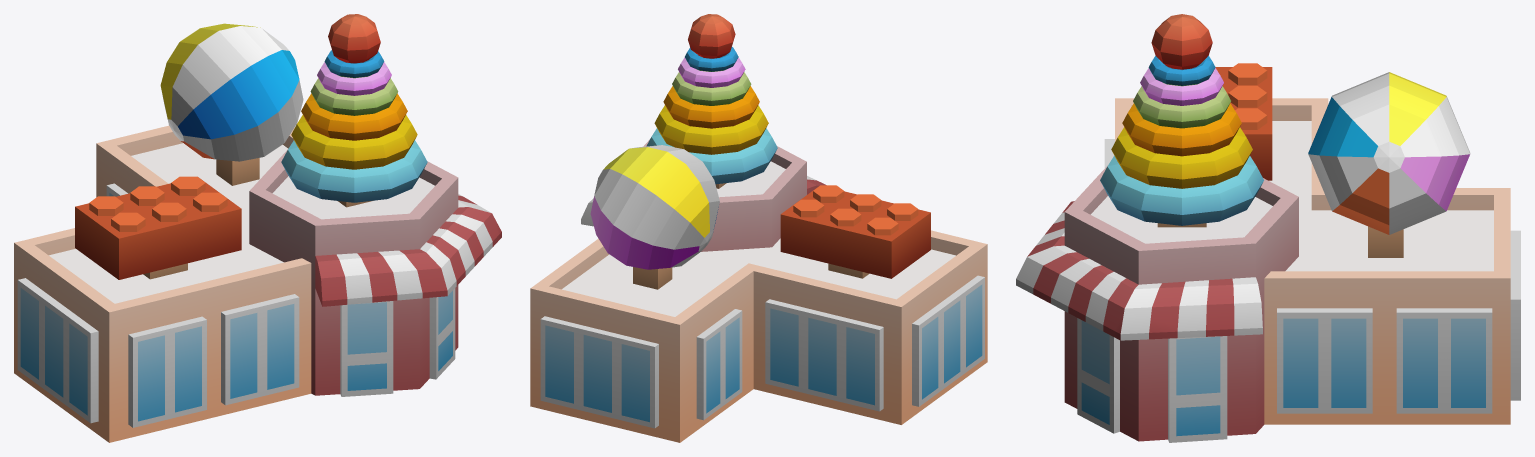
Rendered from toy store.fbx.
The picture shows the model from 3 angles, left to right: view 1: azimuth 30°, elevation 25°; view 2: azimuth 150°, elevation 25°; view 3: azimuth 270°, elevation 25°; orthographic projection. The views are drawn at different scales.
Parts seen in each view (by area): view 1: toy_store; view 2: toy_store; view 3: toy_store.
Part boxes in pixels (x1,y1,x2,y2): toy_store: (14,14,501,442); toy_store: (530,14,987,442); toy_store: (1016,14,1520,442).
Size of the model in its own units: 900 by 720 by 871.
1 material, 1 textured.
